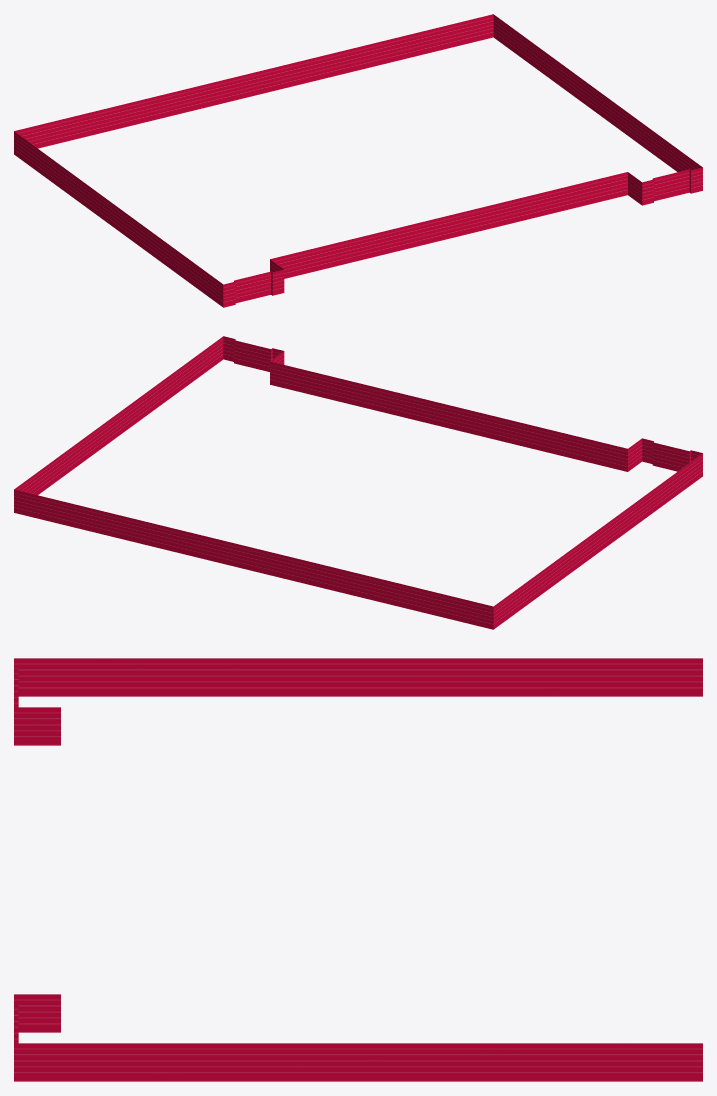
File: WarningEdge.FBX
3 renders of one model, top to bottom at view 1: azimuth 30°, elevation 25°; view 2: azimuth 150°, elevation 25°; view 3: azimuth 270°, elevation 25°, orthographic. The views are drawn at different scales.
Visible parts, largest first — view 1: Warning; view 2: Warning; view 3: Warning.
Part boxes in pixels (box(x1,y1,x2,y2)): Warning: box(14, 14, 702, 307); Warning: box(14, 336, 702, 629); Warning: box(14, 658, 702, 1081).
Bounding box in the file's own units: 774 × 36 × 586.
